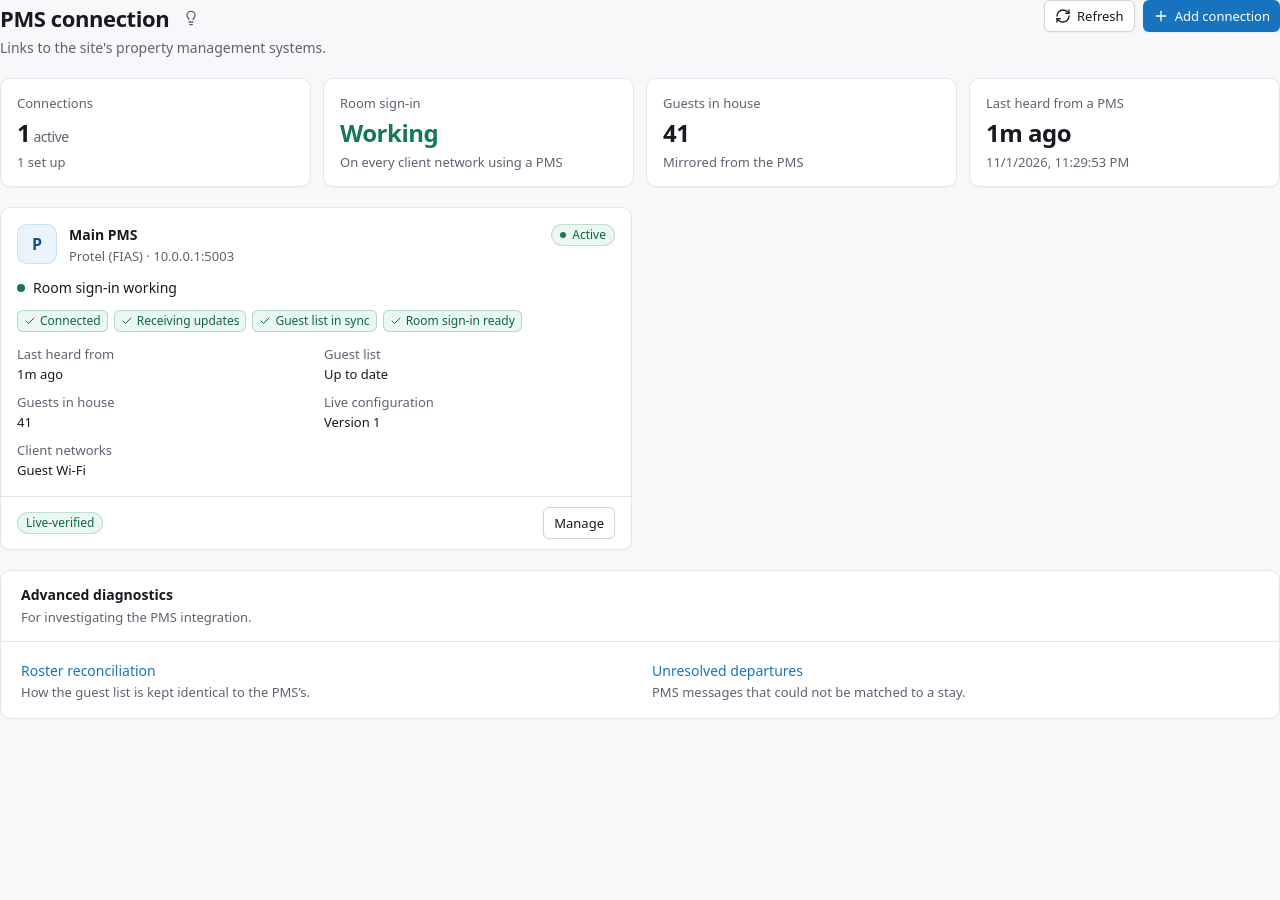
Test: the connection sheet › never offers a connection test for a socket link
Click the button "Manage" at (579, 523), box top-left (543, 507), bottom-right (615, 539)
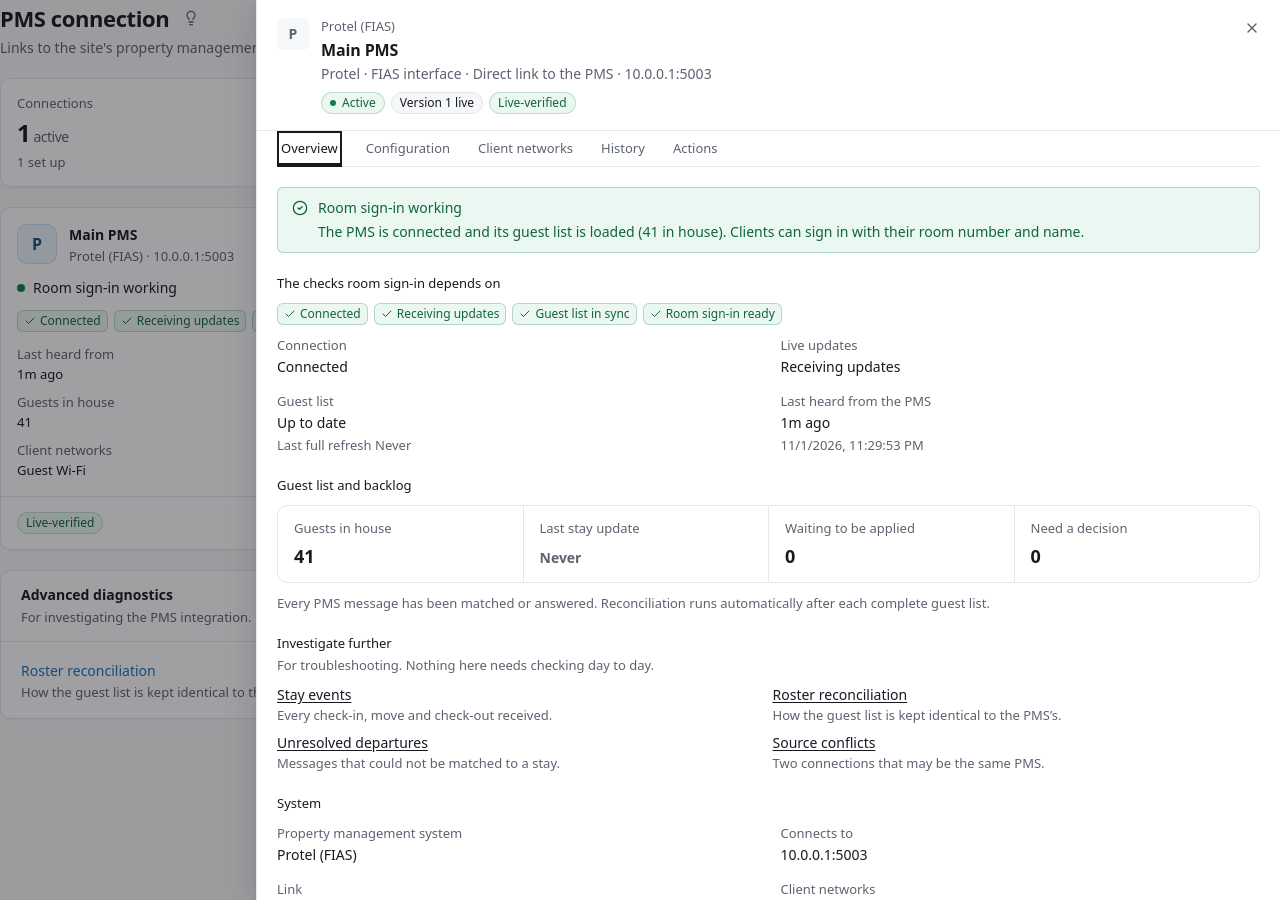
Click the tab "Actions" at (695, 149), box top-left (669, 131), bottom-right (722, 167)
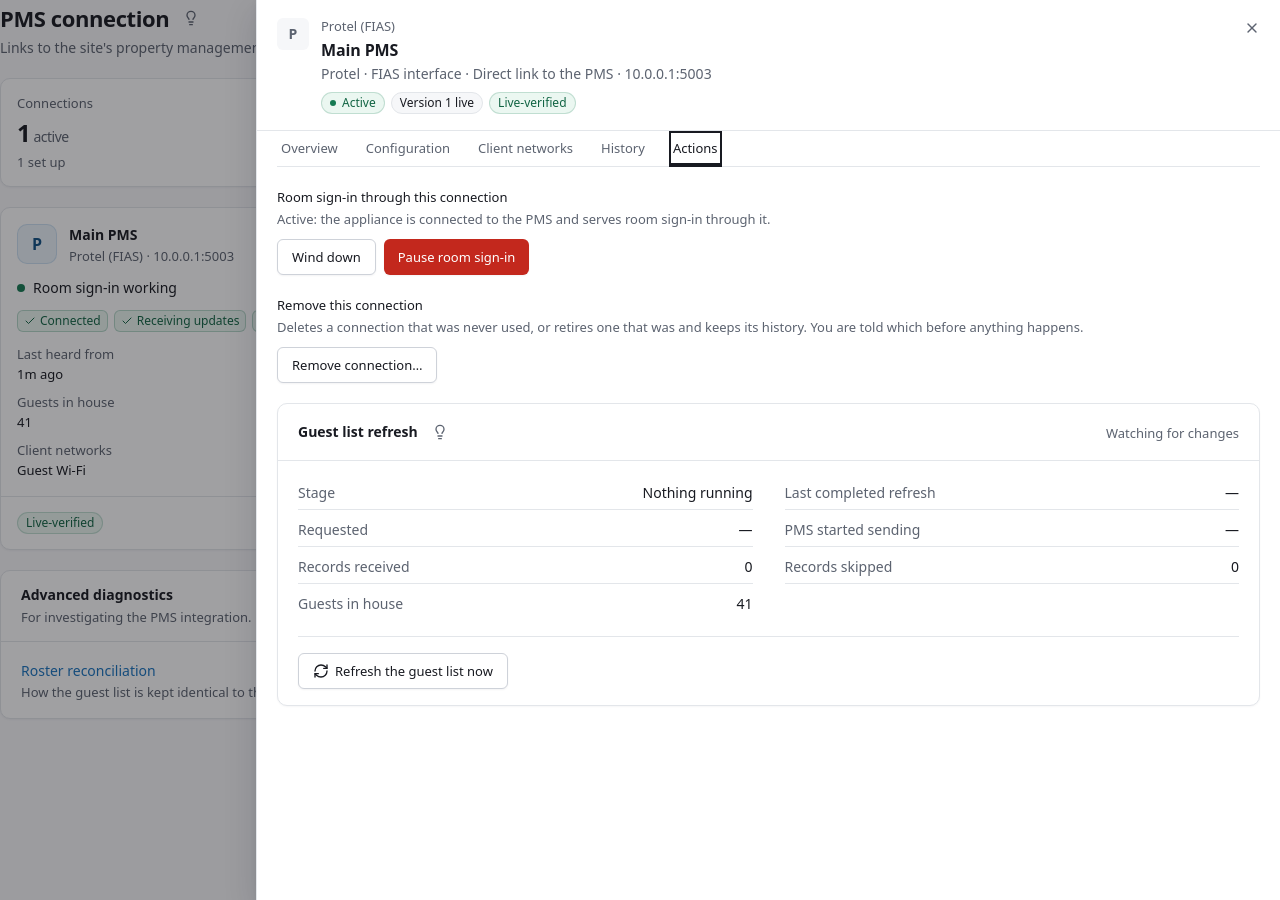
Expected: the heading "Room sign-in through this connection" is shown, top-left (277, 188), bottom-right (508, 206)
